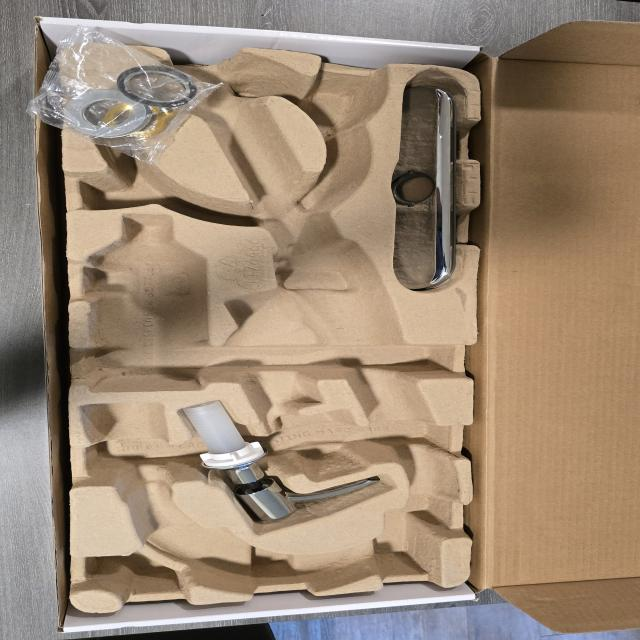1m: (82, 49, 457, 591)
2: (180, 400, 379, 522)
3m: (88, 215, 206, 390)
4: (392, 85, 457, 290)
5m: (308, 85, 373, 132)
6: (17, 21, 229, 163)
7m: (77, 154, 216, 216)
